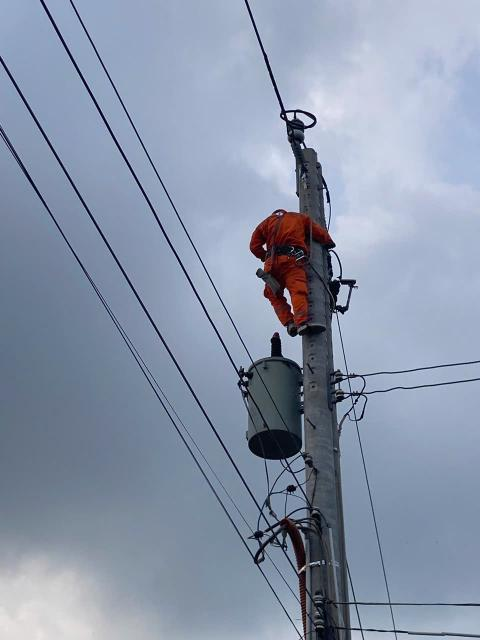harness: (260, 244, 318, 262)
shoes: (295, 323, 334, 336), (287, 319, 301, 337)
